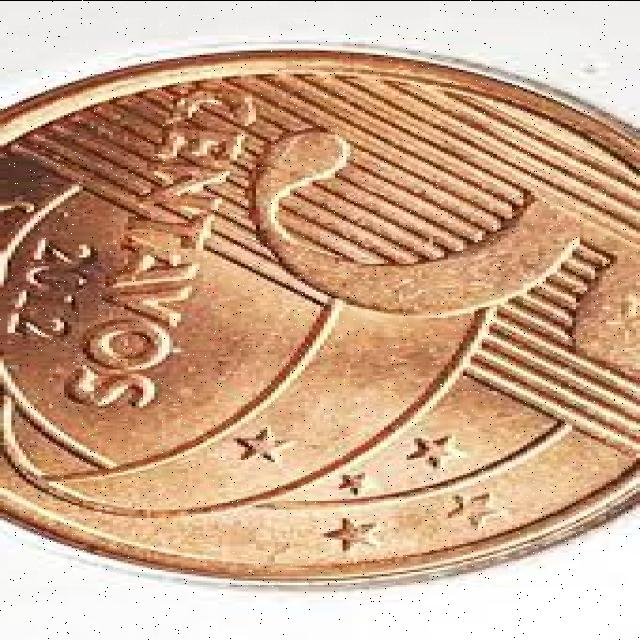5 cent: (4, 66, 640, 556)
